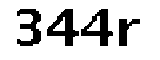3: (11, 6, 43, 50)
4: (79, 3, 113, 50), (45, 4, 79, 49)
r: (114, 15, 146, 51)
